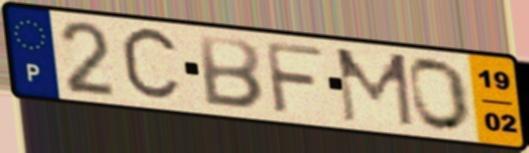2: (56, 18, 119, 98)
B: (196, 33, 265, 112)
C: (117, 24, 185, 106)
F: (262, 39, 327, 118)
M: (333, 46, 418, 131)
O: (406, 56, 475, 134)
